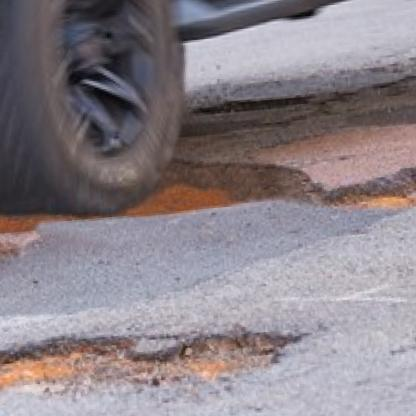pothole: (0, 315, 313, 405), (170, 144, 323, 216), (323, 140, 416, 212)
